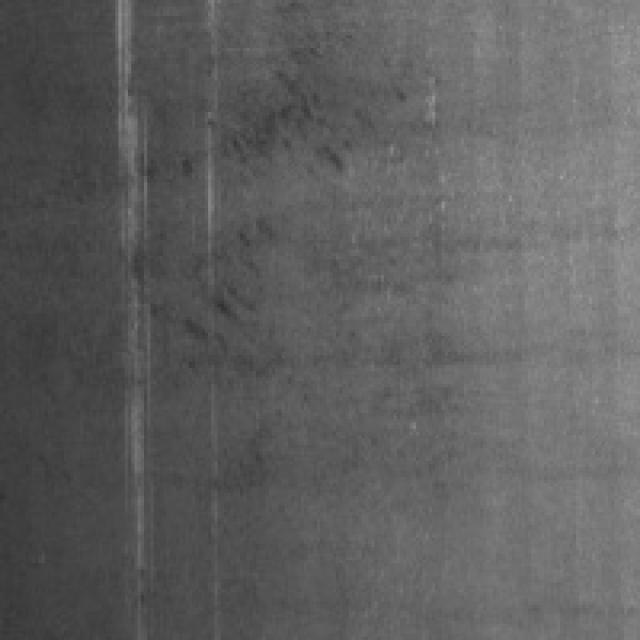scratches: (119, 0, 164, 614)
